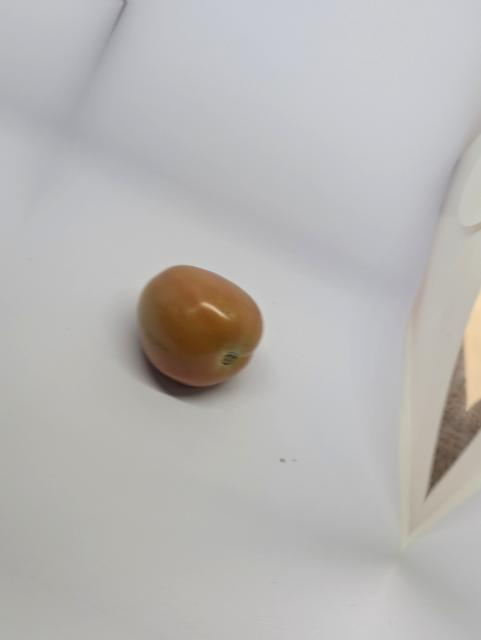turning: (130, 260, 269, 395)
